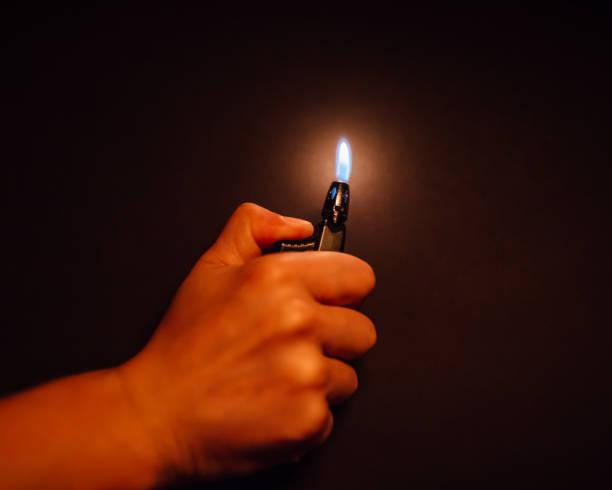Fire: (329, 122, 358, 182)
